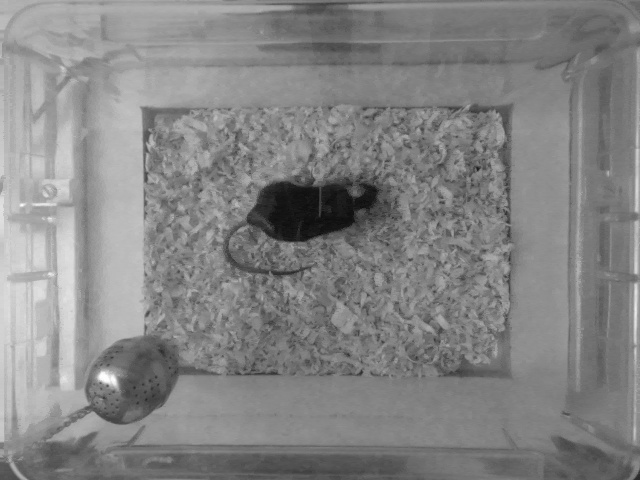mice: (221, 177, 381, 278)
